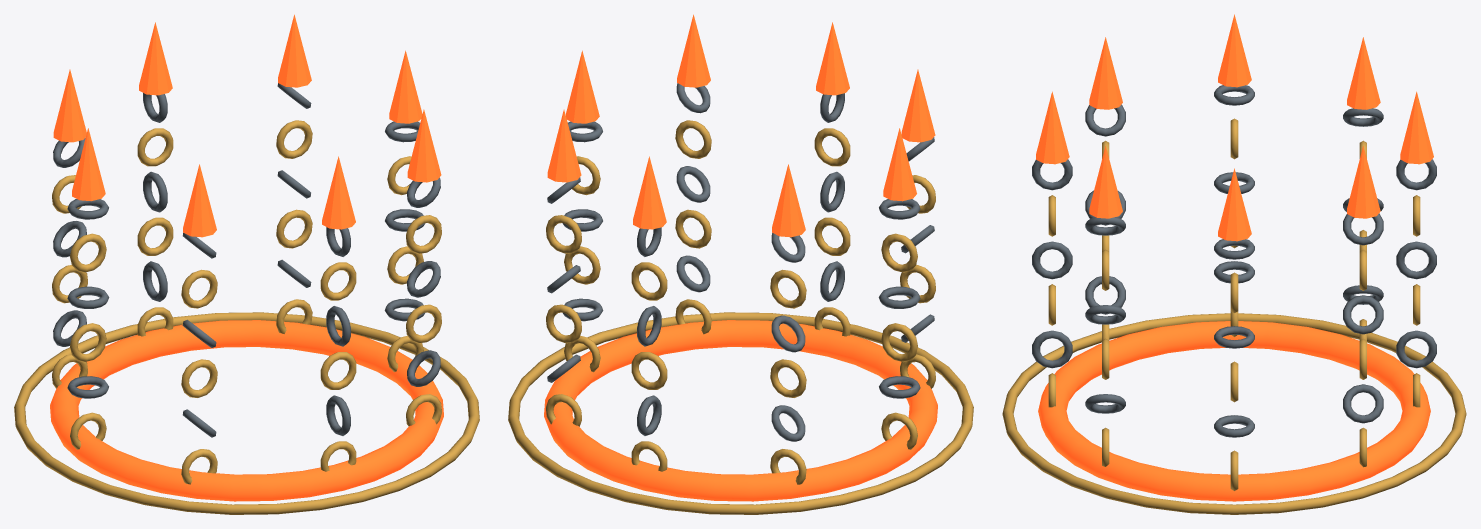
The model's file is keeper_chain_cage.glb.
3 views of the same model, side by side, from view 1: azimuth 30°, elevation 25°; view 2: azimuth 150°, elevation 25°; view 3: azimuth 270°, elevation 25° (orthographic).
Parts seen in each view (by area): view 1: keeper chain cage ring; view 2: keeper chain cage ring; view 3: keeper chain cage ring.
Part boxes in pixels (x1,y1,x2,y2): keeper chain cage ring: (14, 14, 479, 514); keeper chain cage ring: (508, 14, 973, 514); keeper chain cage ring: (1002, 14, 1466, 514).
Size of the model in its own units: 2.93 by 2.32 by 2.93.
